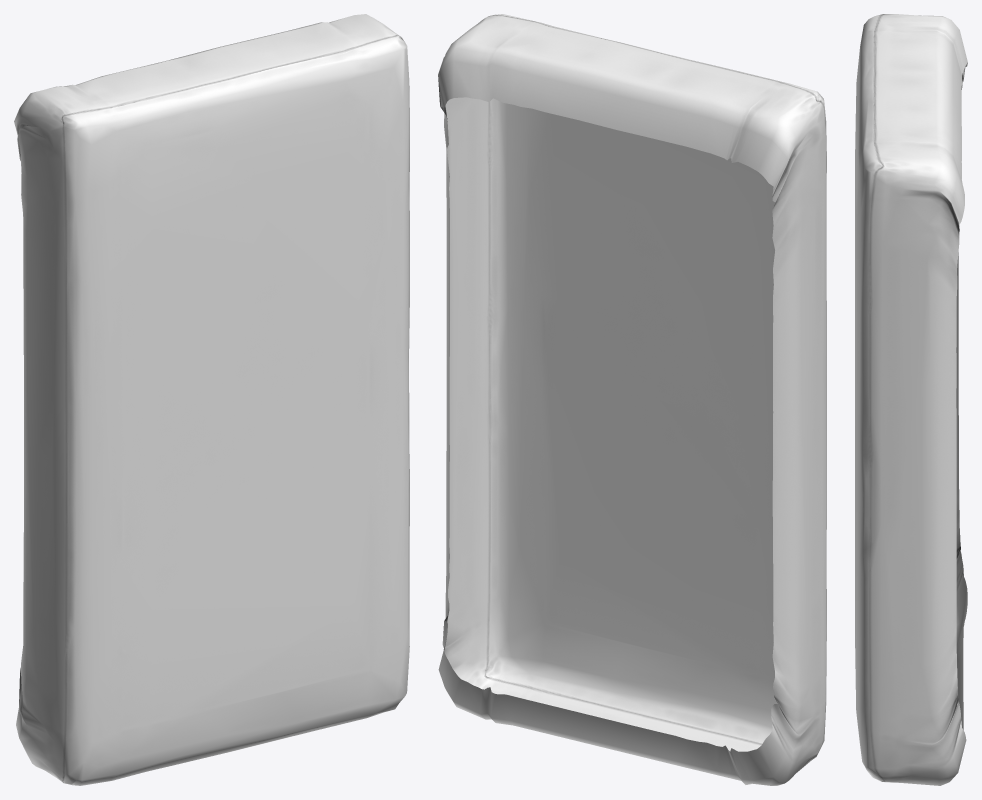
The model's file is BedMattress_7_BedMattress_7_1.obj.
3 renders of one model, left to right at view 1: azimuth 30°, elevation 25°; view 2: azimuth 150°, elevation 25°; view 3: azimuth 270°, elevation 25°, orthographic. The views are drawn at different scales.
Parts seen in each view (by area): view 1: BedMattress_7; view 2: BedMattress_7; view 3: BedMattress_7.
Part boxes in pixels (bbox=[...]): BedMattress_7: bbox=[14, 14, 409, 785]; BedMattress_7: bbox=[438, 14, 826, 785]; BedMattress_7: bbox=[855, 14, 967, 785].
Size of the model in its own units: 1.3 by 2.38 by 0.3838.
